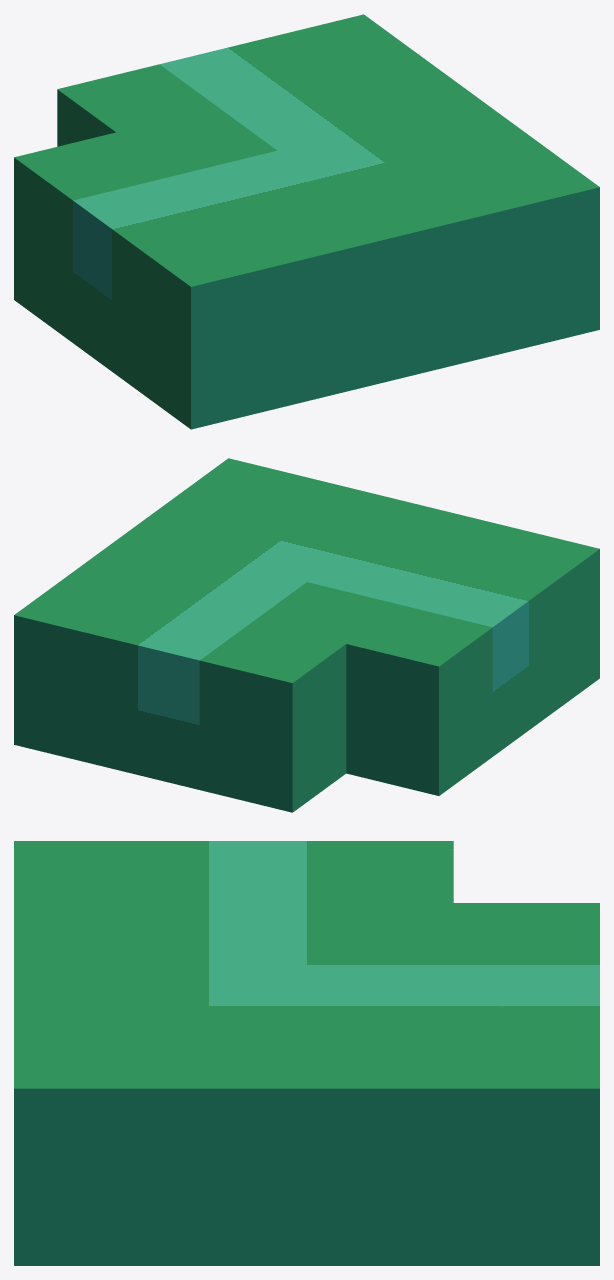
File: lily.gltf
3 renders of one model, top to bottom at view 1: azimuth 30°, elevation 25°; view 2: azimuth 150°, elevation 25°; view 3: azimuth 270°, elevation 25°, orthographic. The views are drawn at different scales.
Parts seen in each view (by area): view 1: cube; view 2: cube; view 3: cube.
Part boxes in pixels (box(x1,y1,x2,y2)): cube: box(14, 14, 599, 429); cube: box(14, 458, 599, 812); cube: box(14, 841, 599, 1265).
Size of the model in its own units: 0.75 by 0.25 by 0.75.
Materials: 1 (1 with a texture image).
